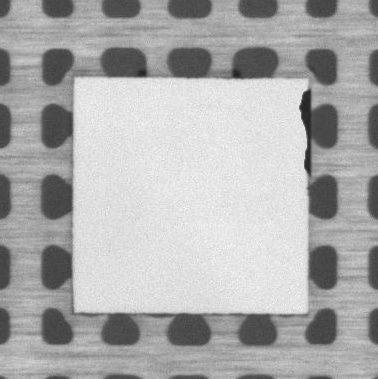DIE_BROKEN: (297, 82, 313, 178)
